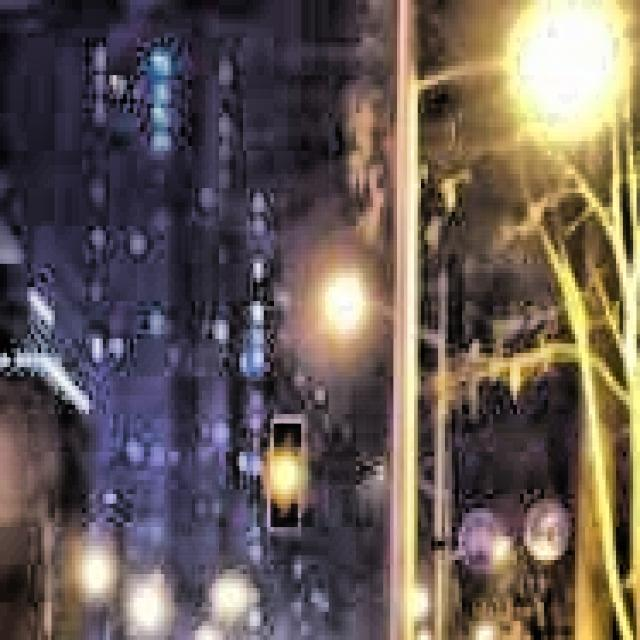yellow: (271, 424, 300, 536)
